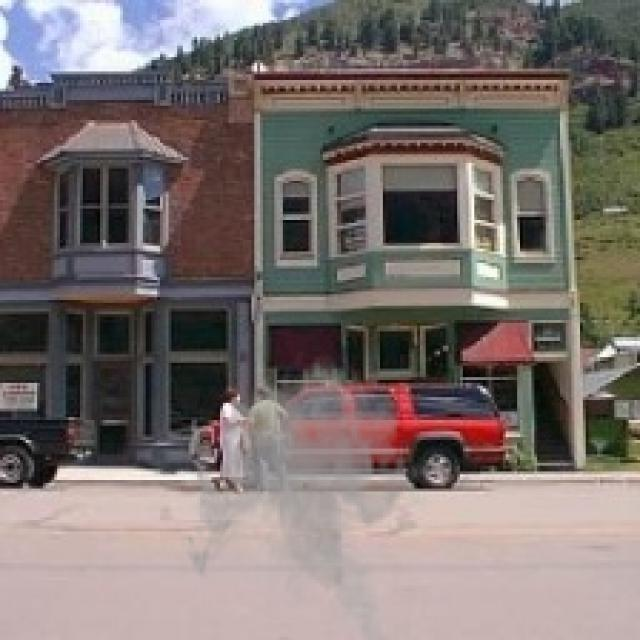smoke: (180, 352, 423, 617)
